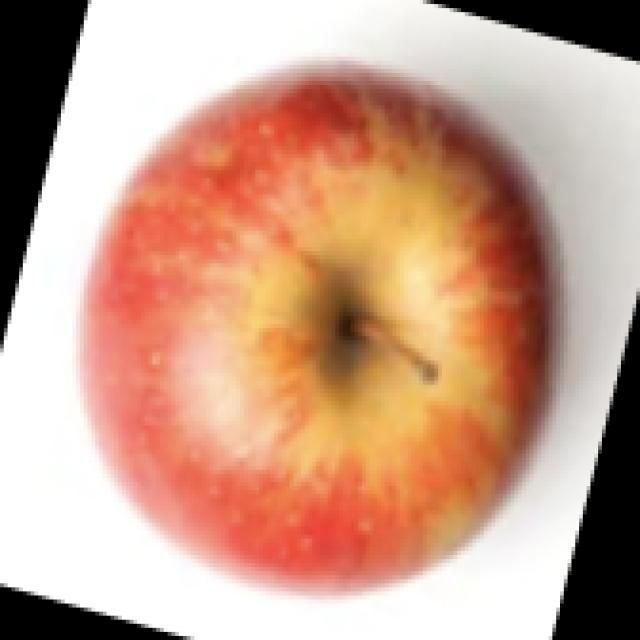Fresh Apple: (106, 75, 586, 640)
